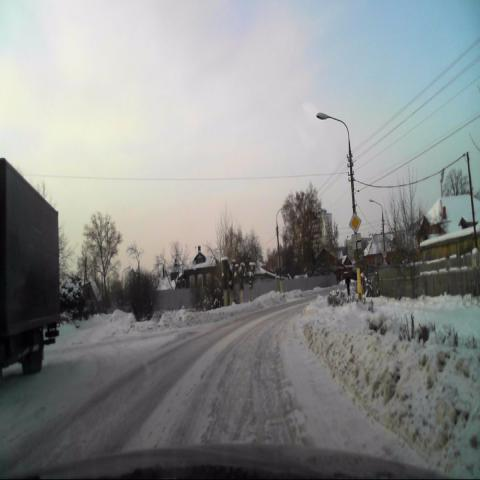2_1: (349, 213, 361, 235)
8_13: (352, 233, 361, 250)
